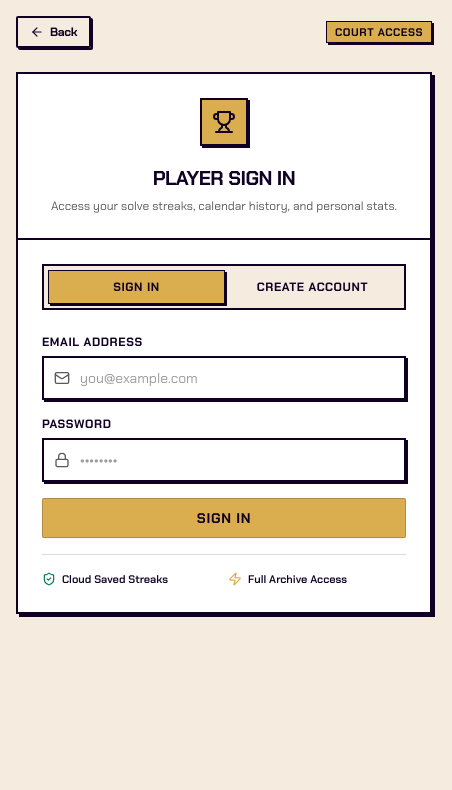
Test: Poeltl Revamp: LandingPage & Component Library › AuthPage › renders AuthPage with tabs for Sign In and Register
The image size is (452, 790).
Expected: the heading "Player Sign In" is shown, [153,165,295,191]
Expected: the button "Back" is shown, [16,16,91,48]
# Switch to Register tab
What coordinates should you click on to do the following:
click the button "Create Account"
I would click on:
 (312, 287)
Its box is [225,270,400,304].
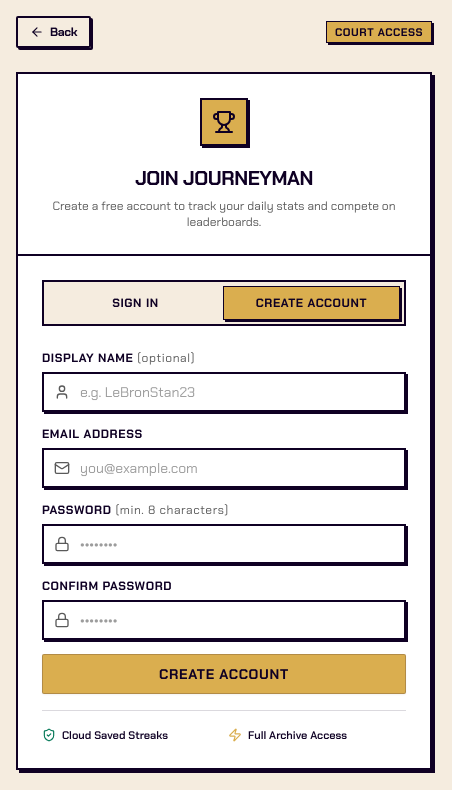
Expected: the field with placeholder "e.g. LeBronStan23" is shown, [42,372,406,412]
